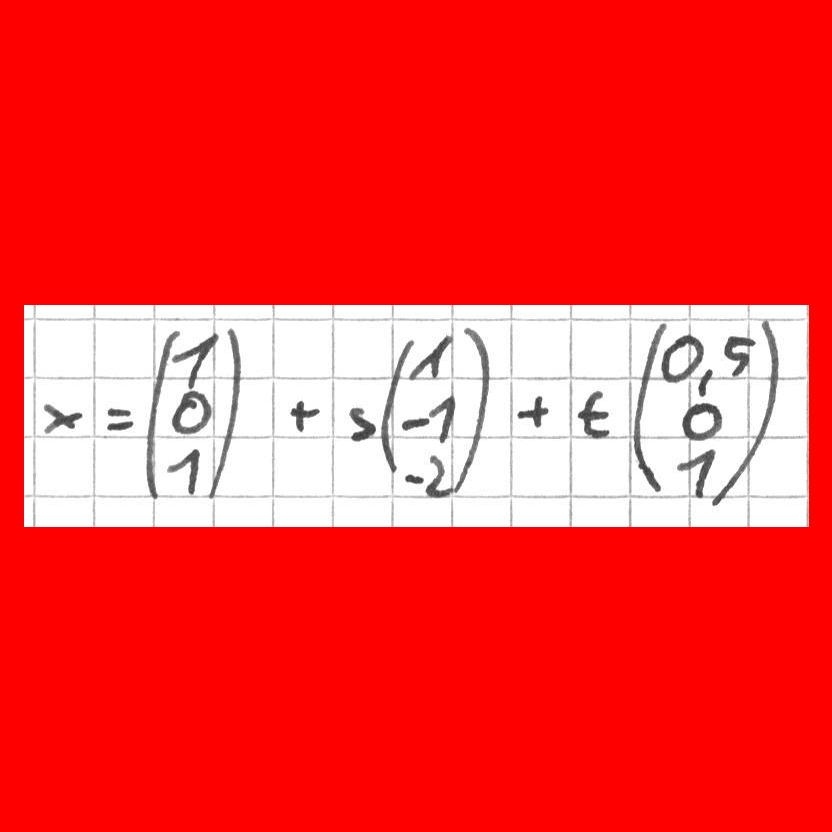Char: (452, 320, 494, 497), (629, 315, 665, 500), (142, 323, 174, 501), (212, 323, 242, 500), (754, 308, 783, 488), (379, 336, 413, 474), (167, 326, 222, 392), (673, 387, 729, 446), (406, 328, 456, 384), (166, 386, 216, 437), (660, 330, 708, 383), (679, 441, 718, 504), (572, 381, 613, 440), (284, 391, 326, 441), (163, 448, 205, 497), (720, 325, 754, 380), (344, 398, 380, 448), (515, 390, 557, 432), (97, 396, 139, 437), (420, 451, 454, 500), (41, 398, 84, 435), (429, 390, 457, 445), (400, 410, 432, 436), (694, 366, 718, 400), (398, 465, 425, 488)
